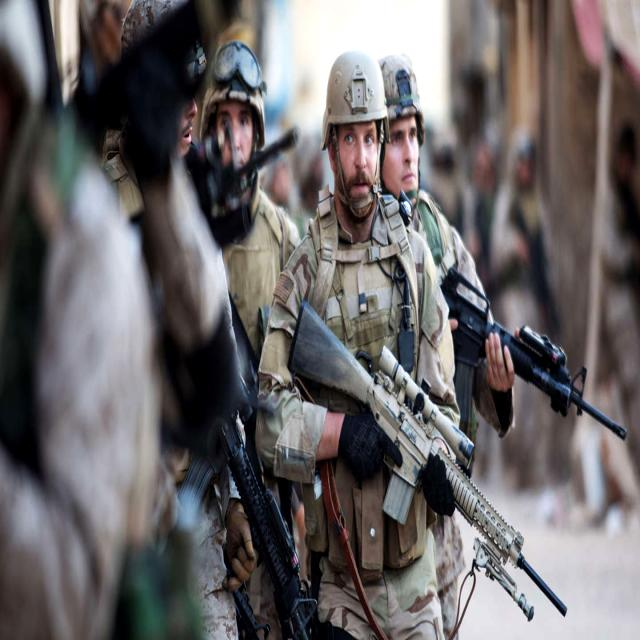rifle: (294, 296, 570, 618), (440, 258, 634, 458)
